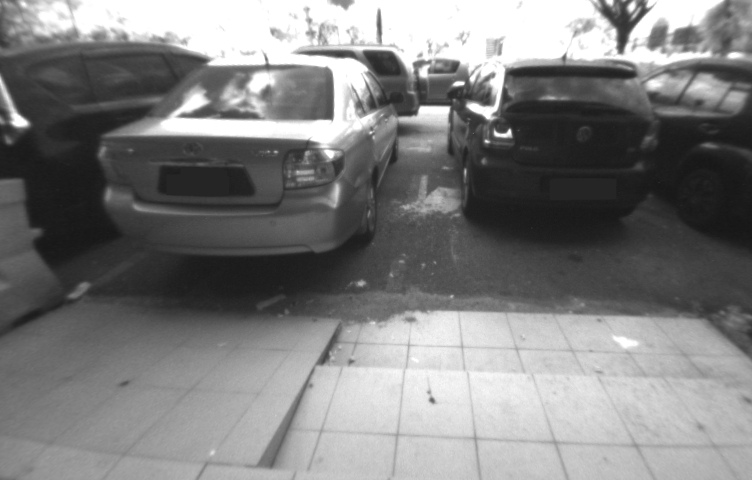down_steps: (278, 294, 742, 480)
mixed_gradient: (208, 300, 414, 480)
